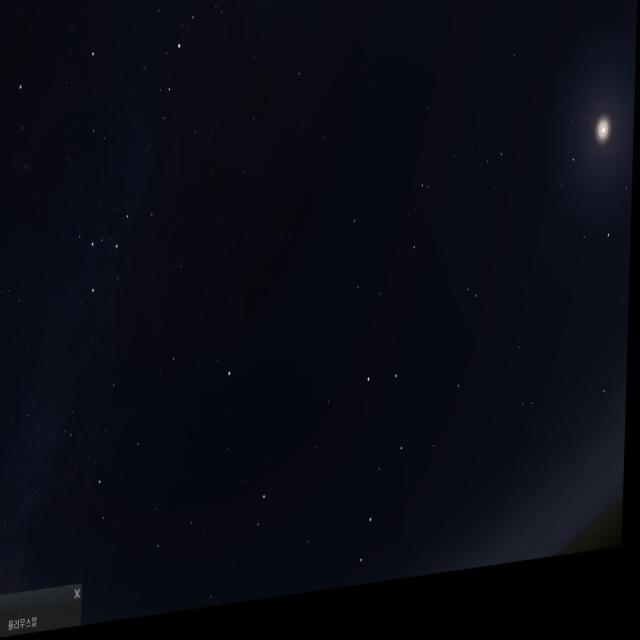moon: (562, 67, 637, 218)
ursa_major: (340, 347, 410, 599)
